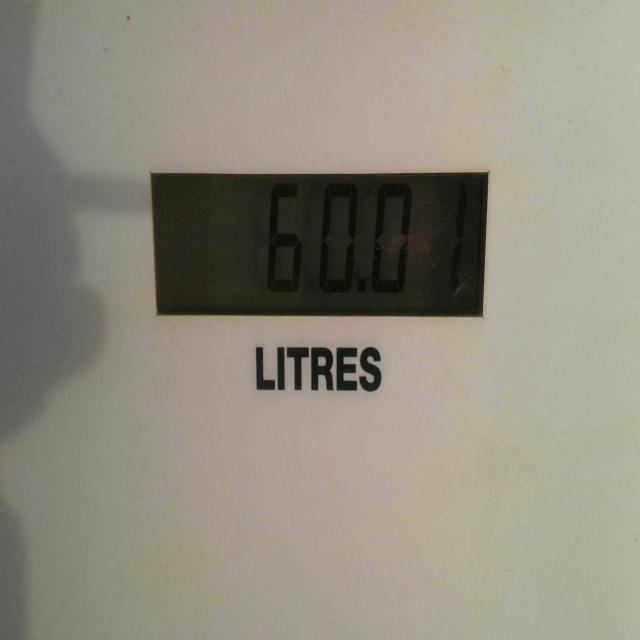.: (360, 271, 370, 312)
0: (370, 186, 424, 301), (321, 181, 358, 299)
6: (254, 165, 303, 298)
